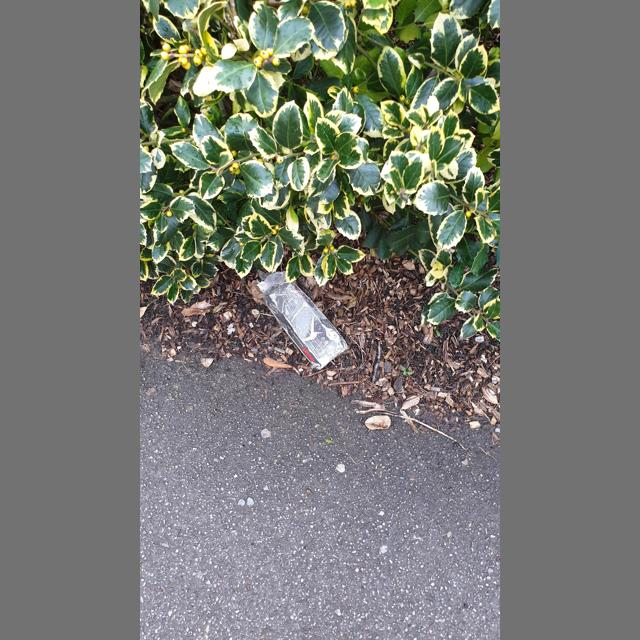litter: (257, 270, 350, 370), (265, 283, 346, 367)
